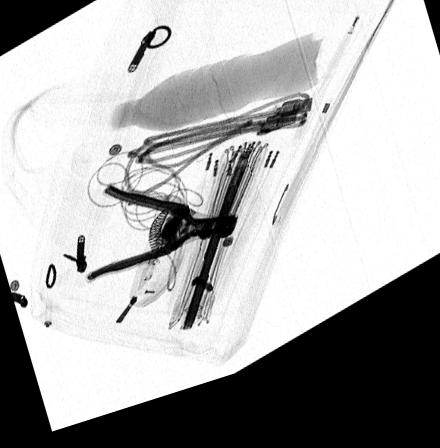Pliers: (88, 188, 237, 285)
